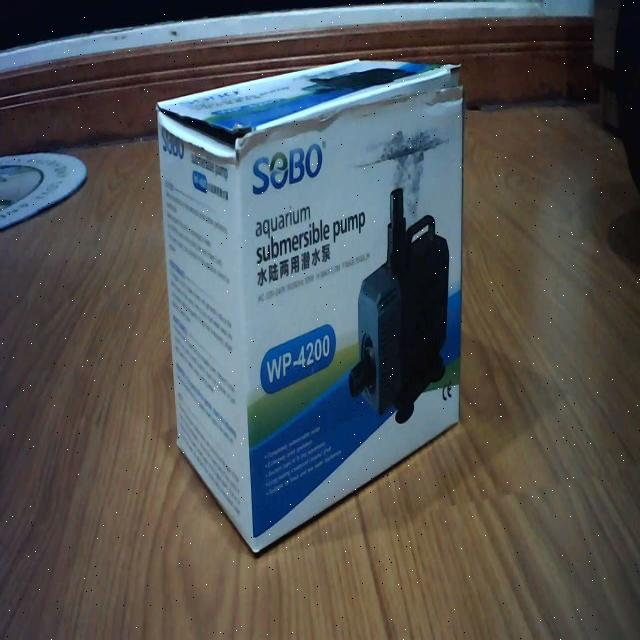SOBO_WP_4200: (150, 28, 471, 564)
